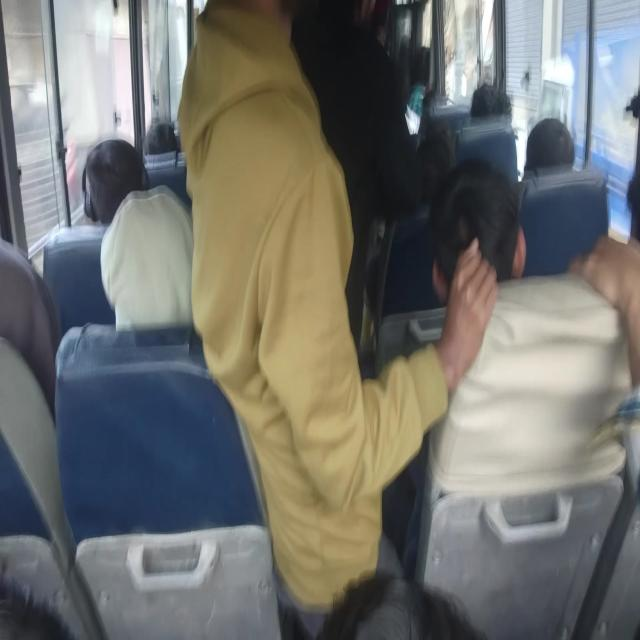person: (186, 10, 366, 421), (595, 202, 640, 630), (308, 0, 406, 189), (108, 198, 202, 312), (0, 261, 51, 399), (453, 191, 521, 280), (460, 78, 525, 138), (70, 122, 116, 190), (536, 109, 573, 173), (138, 98, 175, 159), (427, 83, 464, 123), (427, 141, 471, 172), (410, 42, 440, 82)
